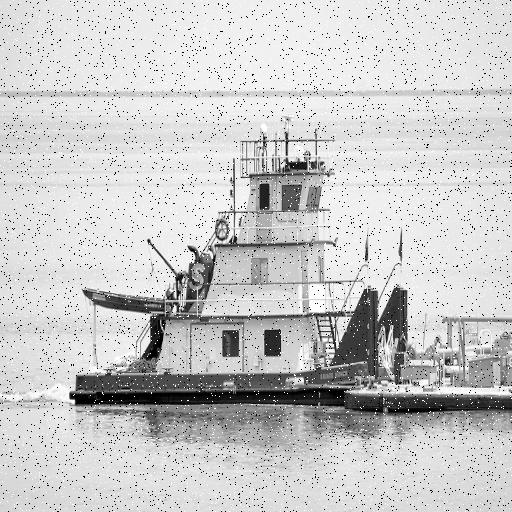tugboat: (66, 112, 416, 425)
